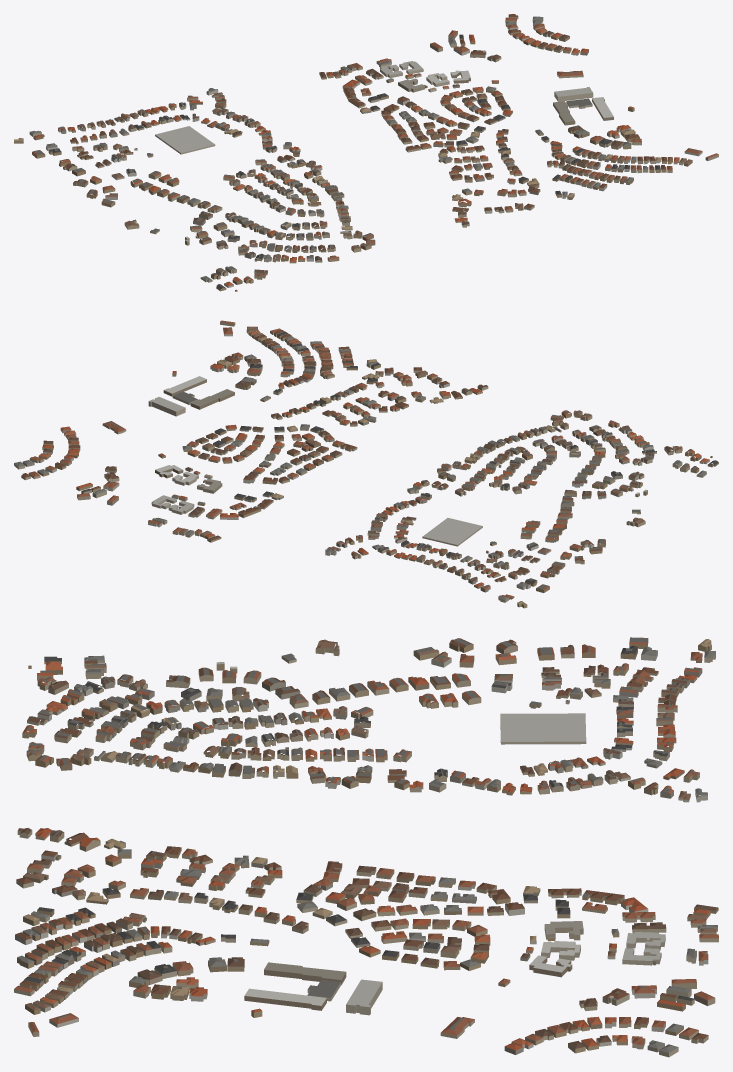
The picture shows the model from 3 angles, top to bottom: view 1: azimuth 30°, elevation 25°; view 2: azimuth 150°, elevation 25°; view 3: azimuth 270°, elevation 25°; orthographic projection. The views are drawn at different scales.
Visible parts, largest first — view 1: buildings_r5_c7_lod1; view 2: buildings_r5_c7_lod1; view 3: buildings_r5_c7_lod1.
Boxes of the visible parts, x1=… form: buildings_r5_c7_lod1: x1=14, y1=14, x2=718, y2=291; buildings_r5_c7_lod1: x1=14, y1=320, x2=718, y2=608; buildings_r5_c7_lod1: x1=14, y1=637, x2=718, y2=1057.
Size of the model in its own units: 1147 by 55.37 by 805.
